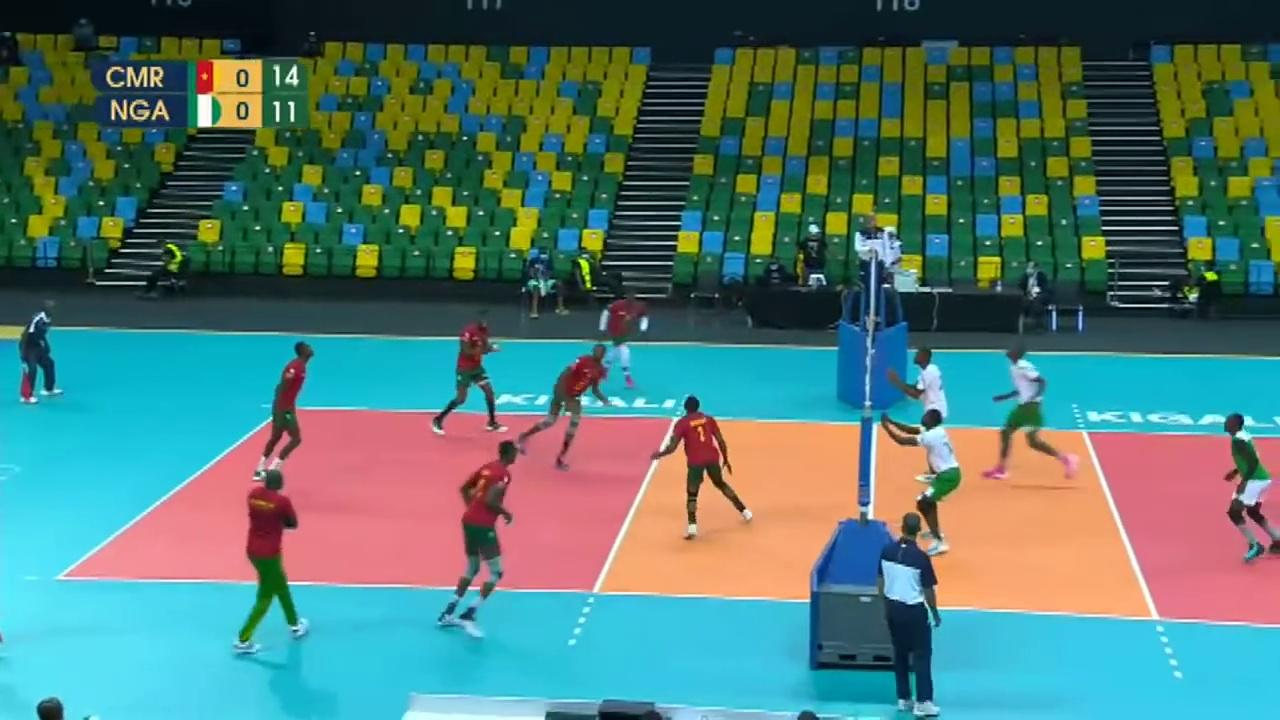player: (436, 438, 518, 644), (659, 399, 758, 531), (985, 348, 1080, 481), (524, 339, 613, 471), (892, 407, 962, 555), (256, 339, 317, 482), (431, 313, 504, 431), (1223, 414, 1280, 559), (906, 341, 956, 487), (593, 290, 643, 397)
refree: (878, 519, 945, 712), (849, 211, 901, 319), (22, 304, 63, 403)
